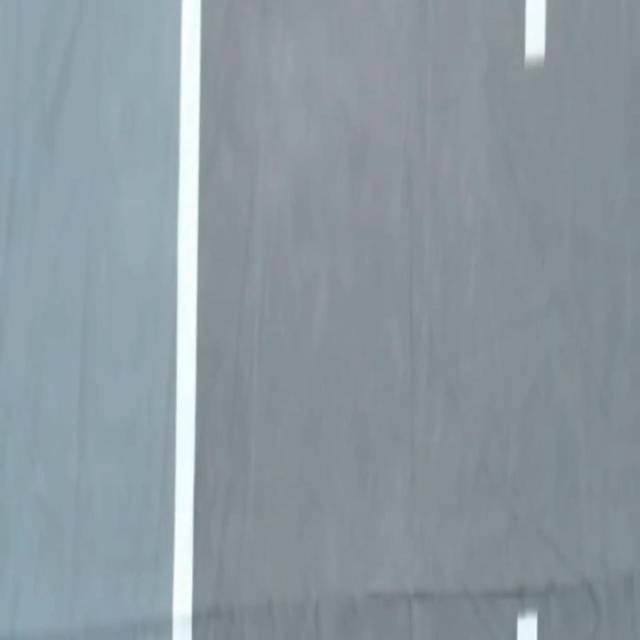center: (524, 0, 546, 66), (516, 608, 537, 639)
left: (172, 0, 200, 639)
